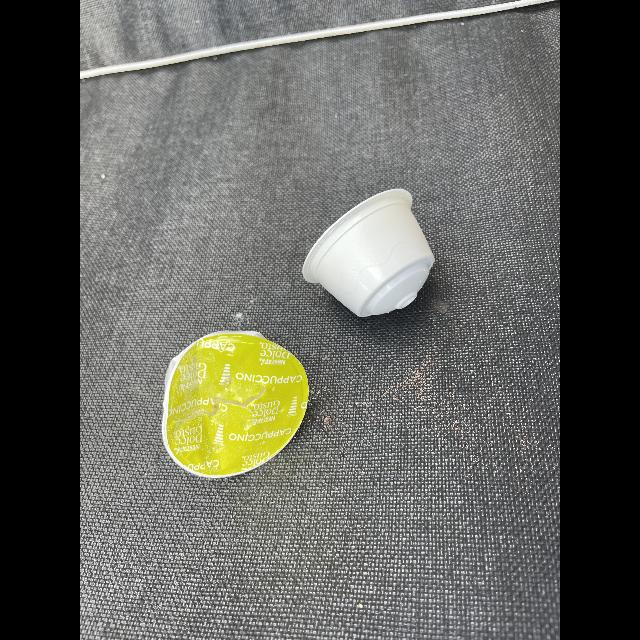damaged_capsule: (157, 318, 327, 492)
intact_capsule: (292, 182, 446, 314)
